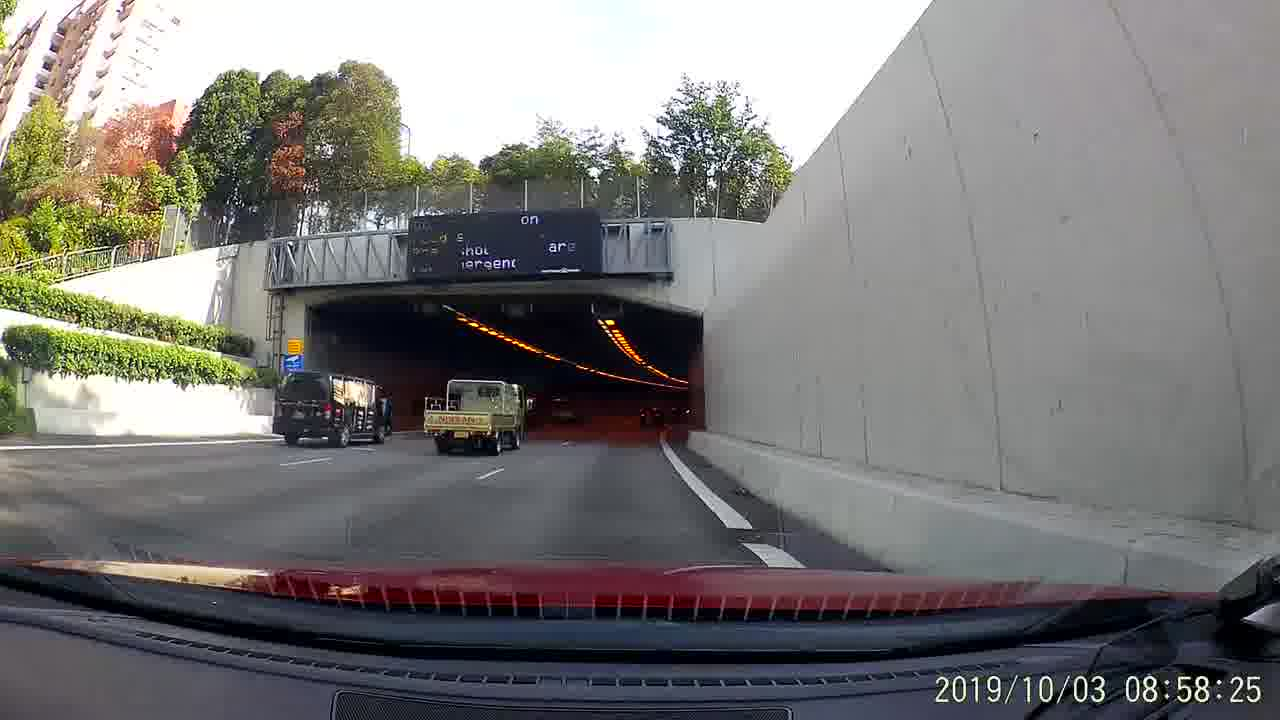car: (639, 405, 664, 431)
